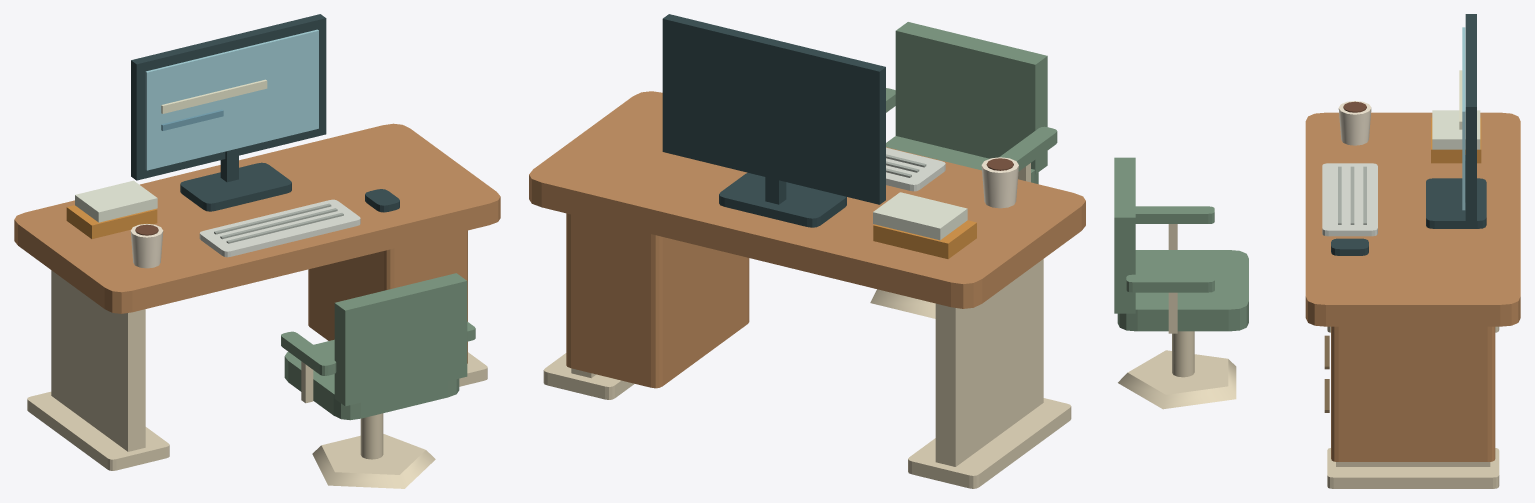
File: desk-studio.glb
3 renders of one model, left to right at view 1: azimuth 30°, elevation 25°; view 2: azimuth 150°, elevation 25°; view 3: azimuth 270°, elevation 25°, orthographic. The views are drawn at different scales.
Visible parts, largest first — view 1: desk-studio; view 2: desk-studio; view 3: desk-studio.
Part boxes in pixels (x1,y1,x2,y2): desk-studio: (14, 14, 500, 488); desk-studio: (529, 14, 1085, 488); desk-studio: (1114, 14, 1520, 488).
Size of the model in its own units: 1.8 by 1.47 by 1.61.
